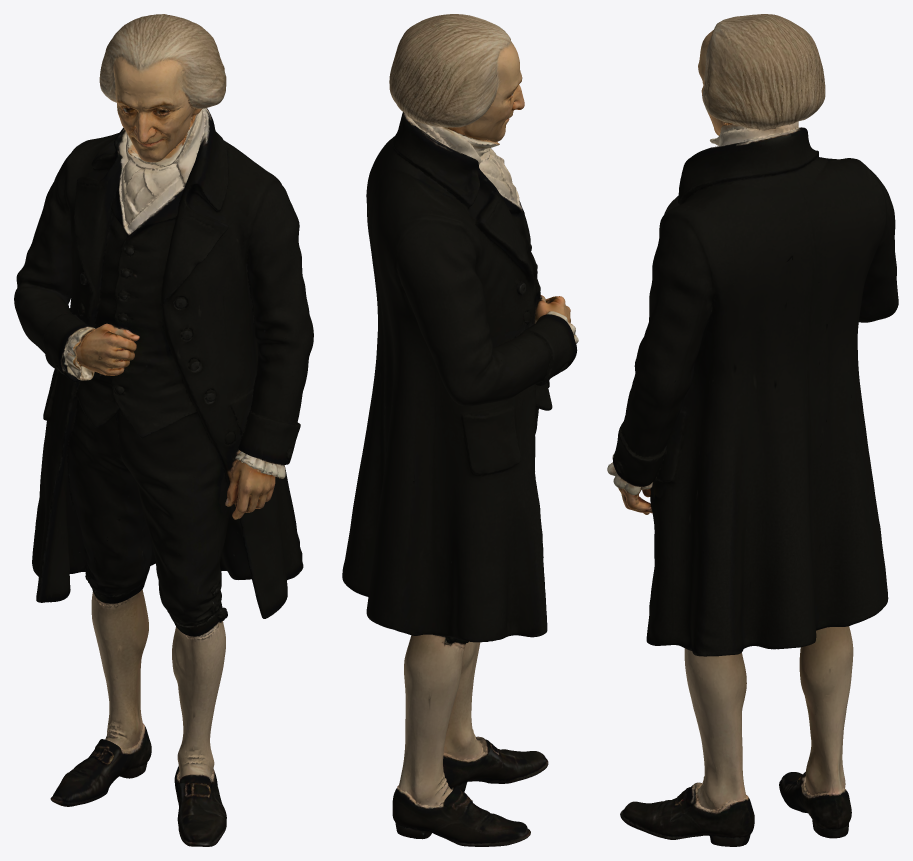
Rendered from gerry-opt.fbx.
3 views of the same model, side by side, from view 1: azimuth 30°, elevation 25°; view 2: azimuth 150°, elevation 25°; view 3: azimuth 270°, elevation 25° (orthographic). The views are drawn at different scales.
Parts seen in each view (by area): view 1: tripo_node_9980391e; view 2: tripo_node_9980391e; view 3: tripo_node_9980391e.
Boxes of the visible parts, x1,y1,x2,y2 form: tripo_node_9980391e: (14, 14, 313, 846); tripo_node_9980391e: (342, 14, 578, 846); tripo_node_9980391e: (607, 14, 898, 846).
Size of the model in its own units: 30.02 by 97.81 by 31.85.
1 material, 1 textured.
